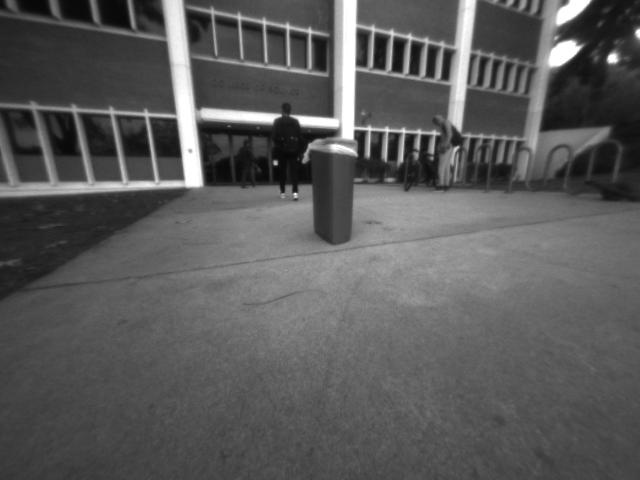trashcan_open: (304, 131, 364, 251)
